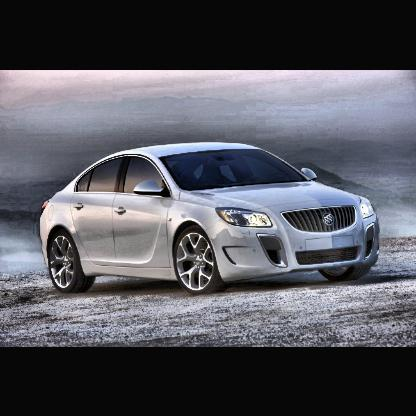Buick Regal GS 2012: (41, 140, 379, 294)
